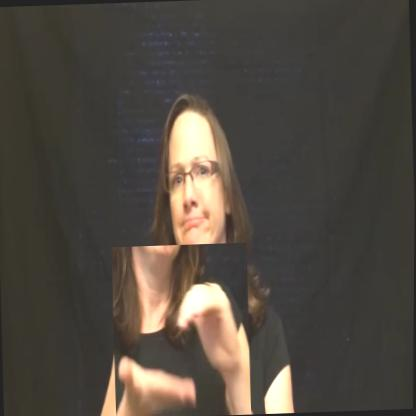ExcuseMe: (111, 242, 253, 416)
